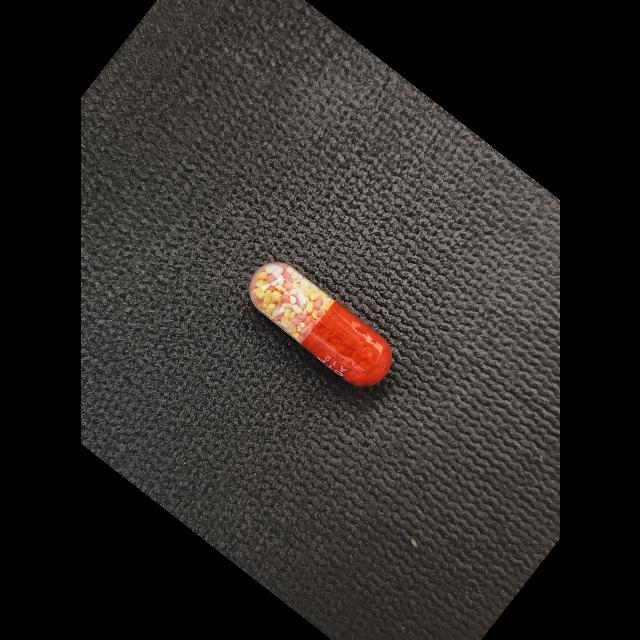Intact Capsule: (249, 262, 391, 386)
